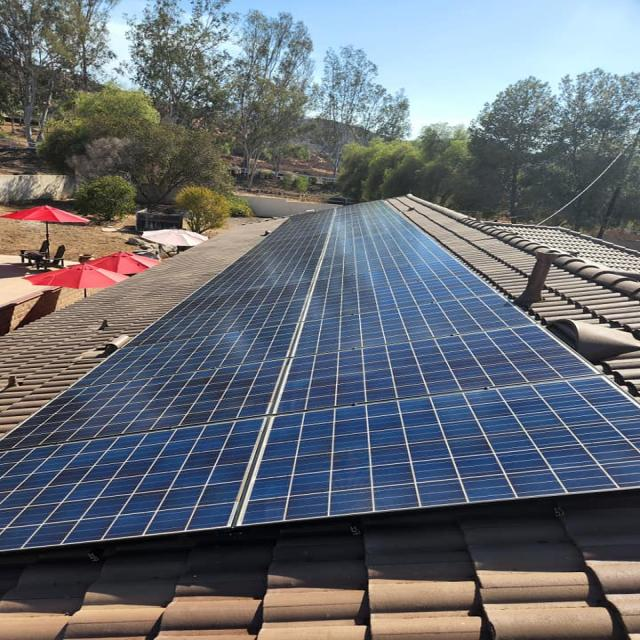clean-solar-panel: (3, 201, 638, 551)
